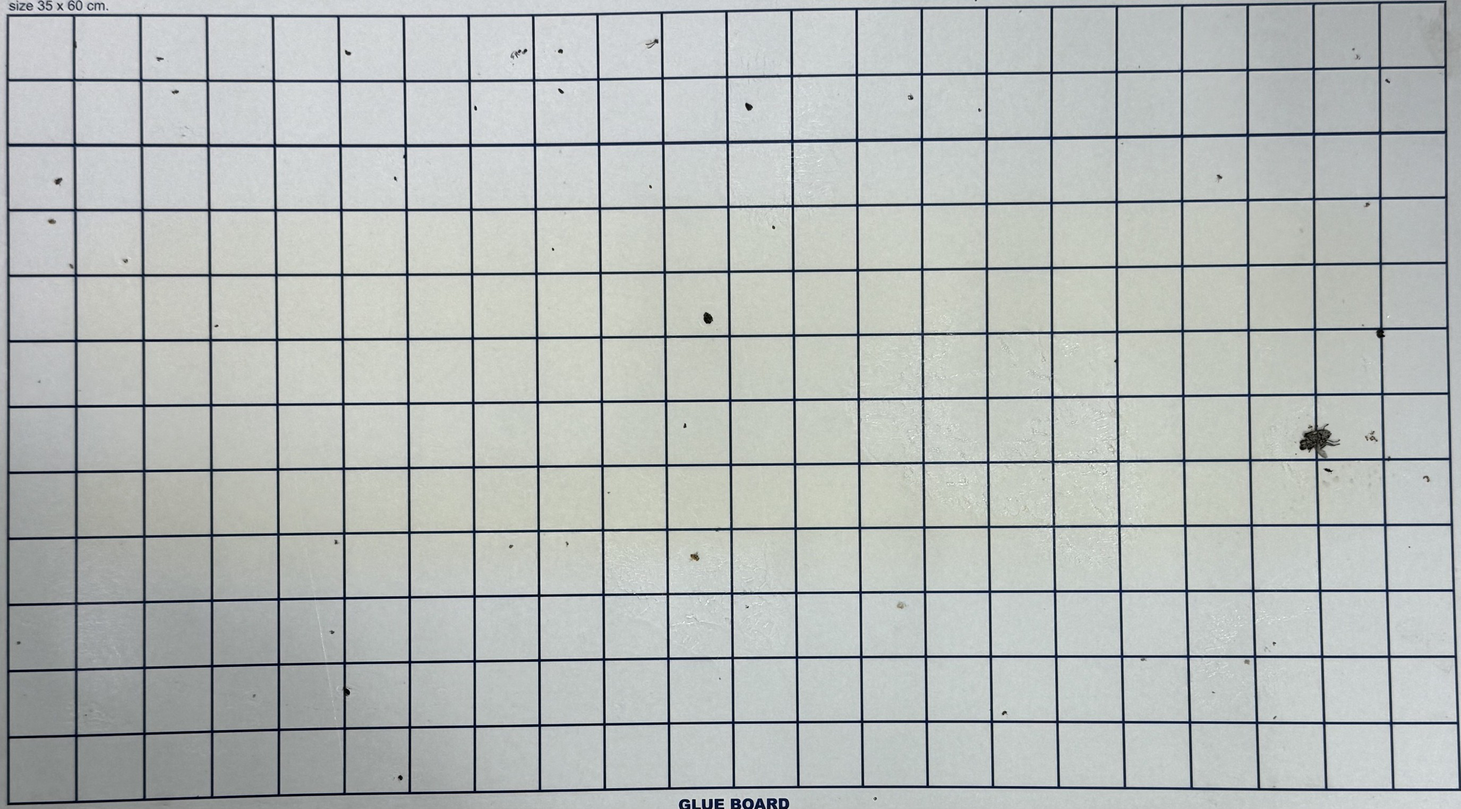fly: (1298, 422, 1340, 456)
test: (704, 313, 714, 324), (896, 601, 907, 609), (1376, 329, 1386, 337), (690, 553, 701, 560), (644, 41, 659, 46), (512, 49, 520, 58), (54, 177, 62, 185), (343, 687, 350, 696), (1422, 476, 1431, 483), (744, 101, 751, 109), (1353, 53, 1361, 60), (343, 50, 352, 56), (48, 219, 58, 224), (1215, 174, 1225, 179), (1324, 467, 1333, 472), (157, 56, 164, 62), (122, 257, 129, 263), (558, 86, 564, 93), (397, 774, 403, 781), (172, 91, 181, 95), (214, 322, 220, 328), (473, 104, 479, 110), (329, 628, 335, 634), (393, 175, 398, 182), (907, 94, 914, 99), (1002, 711, 1009, 716), (1244, 659, 1251, 664), (558, 48, 564, 53), (1365, 201, 1370, 207), (648, 184, 653, 190), (73, 39, 77, 46), (69, 263, 74, 268), (522, 48, 527, 53), (333, 539, 338, 544), (771, 223, 776, 228), (1386, 77, 1391, 82), (1272, 642, 1277, 647), (714, 527, 719, 532), (508, 544, 516, 547), (551, 246, 555, 252), (1364, 436, 1368, 442), (744, 605, 750, 609), (16, 641, 23, 644), (566, 540, 569, 547), (1272, 716, 1277, 720), (683, 423, 687, 428), (252, 693, 257, 697), (1211, 690, 1217, 693), (402, 153, 406, 157), (1141, 657, 1145, 661), (38, 380, 42, 384), (1387, 456, 1390, 461), (1370, 431, 1375, 434), (1018, 10, 1023, 13), (1352, 46, 1355, 51), (977, 108, 980, 112), (1372, 436, 1376, 439), (1114, 360, 1118, 363), (1120, 142, 1123, 145), (1137, 66, 1141, 68)
